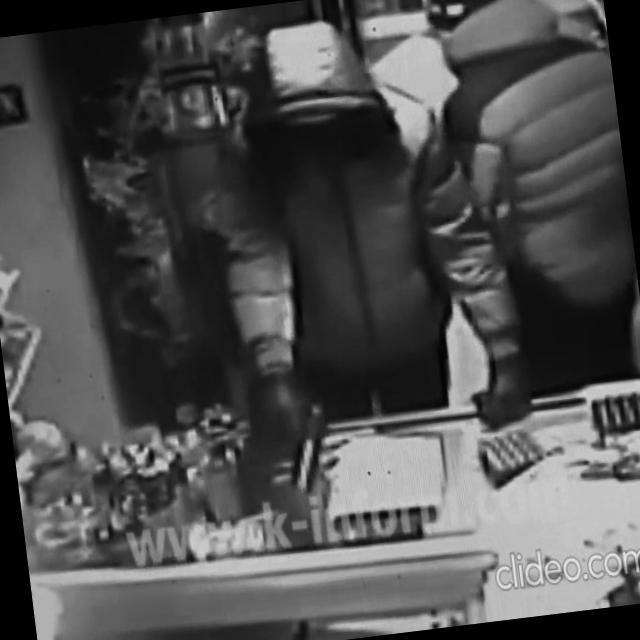gun: (274, 396, 338, 502)
person: (413, 0, 640, 399)
person with a gun: (193, 0, 546, 509)
